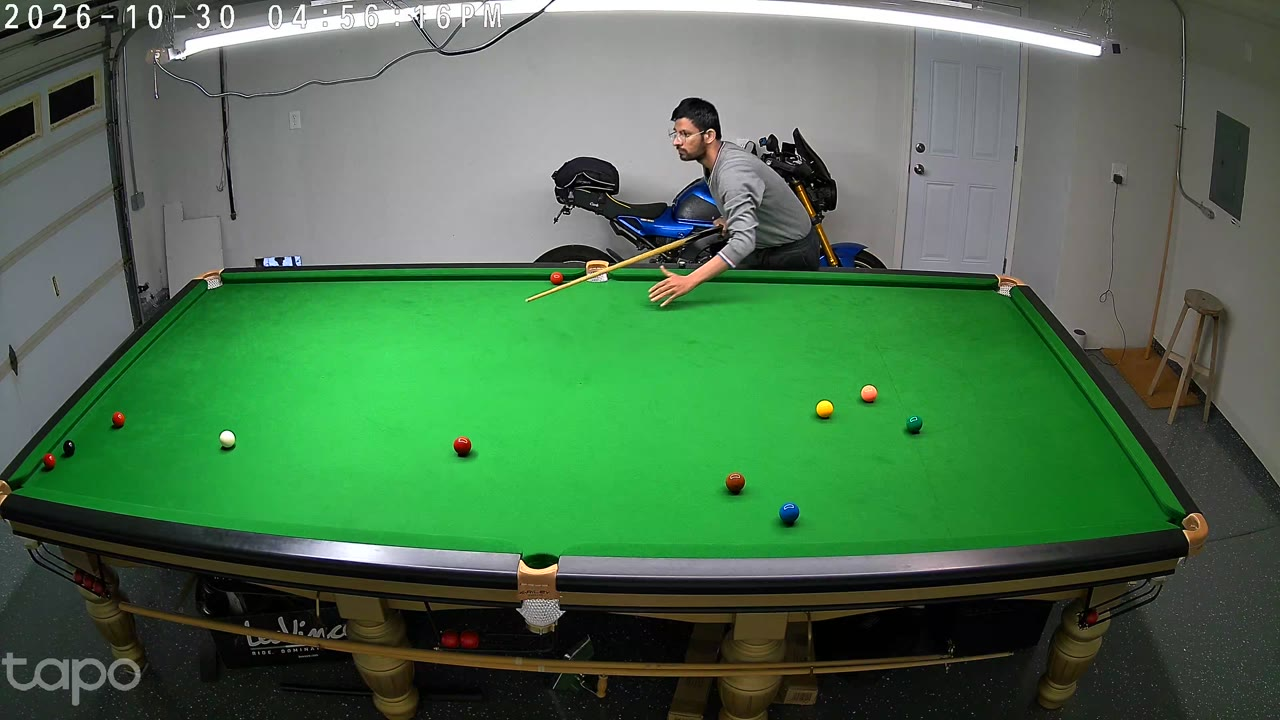black: (63, 438, 75, 459)
blue: (779, 499, 800, 528)
brown: (725, 471, 744, 497)
green: (906, 414, 922, 436)
pink: (860, 384, 876, 405)
red: (454, 435, 472, 458), (112, 410, 125, 430), (44, 452, 56, 471)
white: (219, 428, 236, 452)
yellow: (816, 400, 833, 421)
